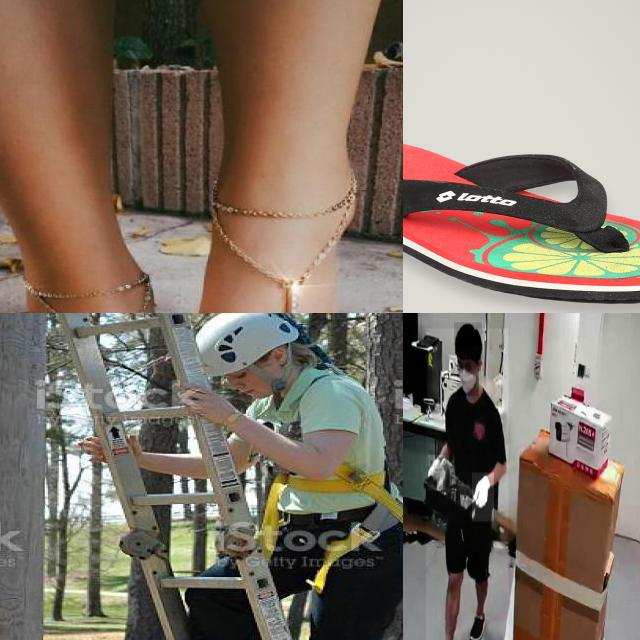Barefoots: (194, 199, 401, 313)
Harness: (257, 464, 403, 594)
Sandals: (403, 139, 640, 305)
face_mask: (457, 357, 479, 397)
hand_glove: (472, 472, 494, 522), (428, 455, 446, 490)
head_nohelmet: (454, 322, 482, 348)
person: (426, 328, 509, 640)
shoes: (466, 608, 487, 640)
